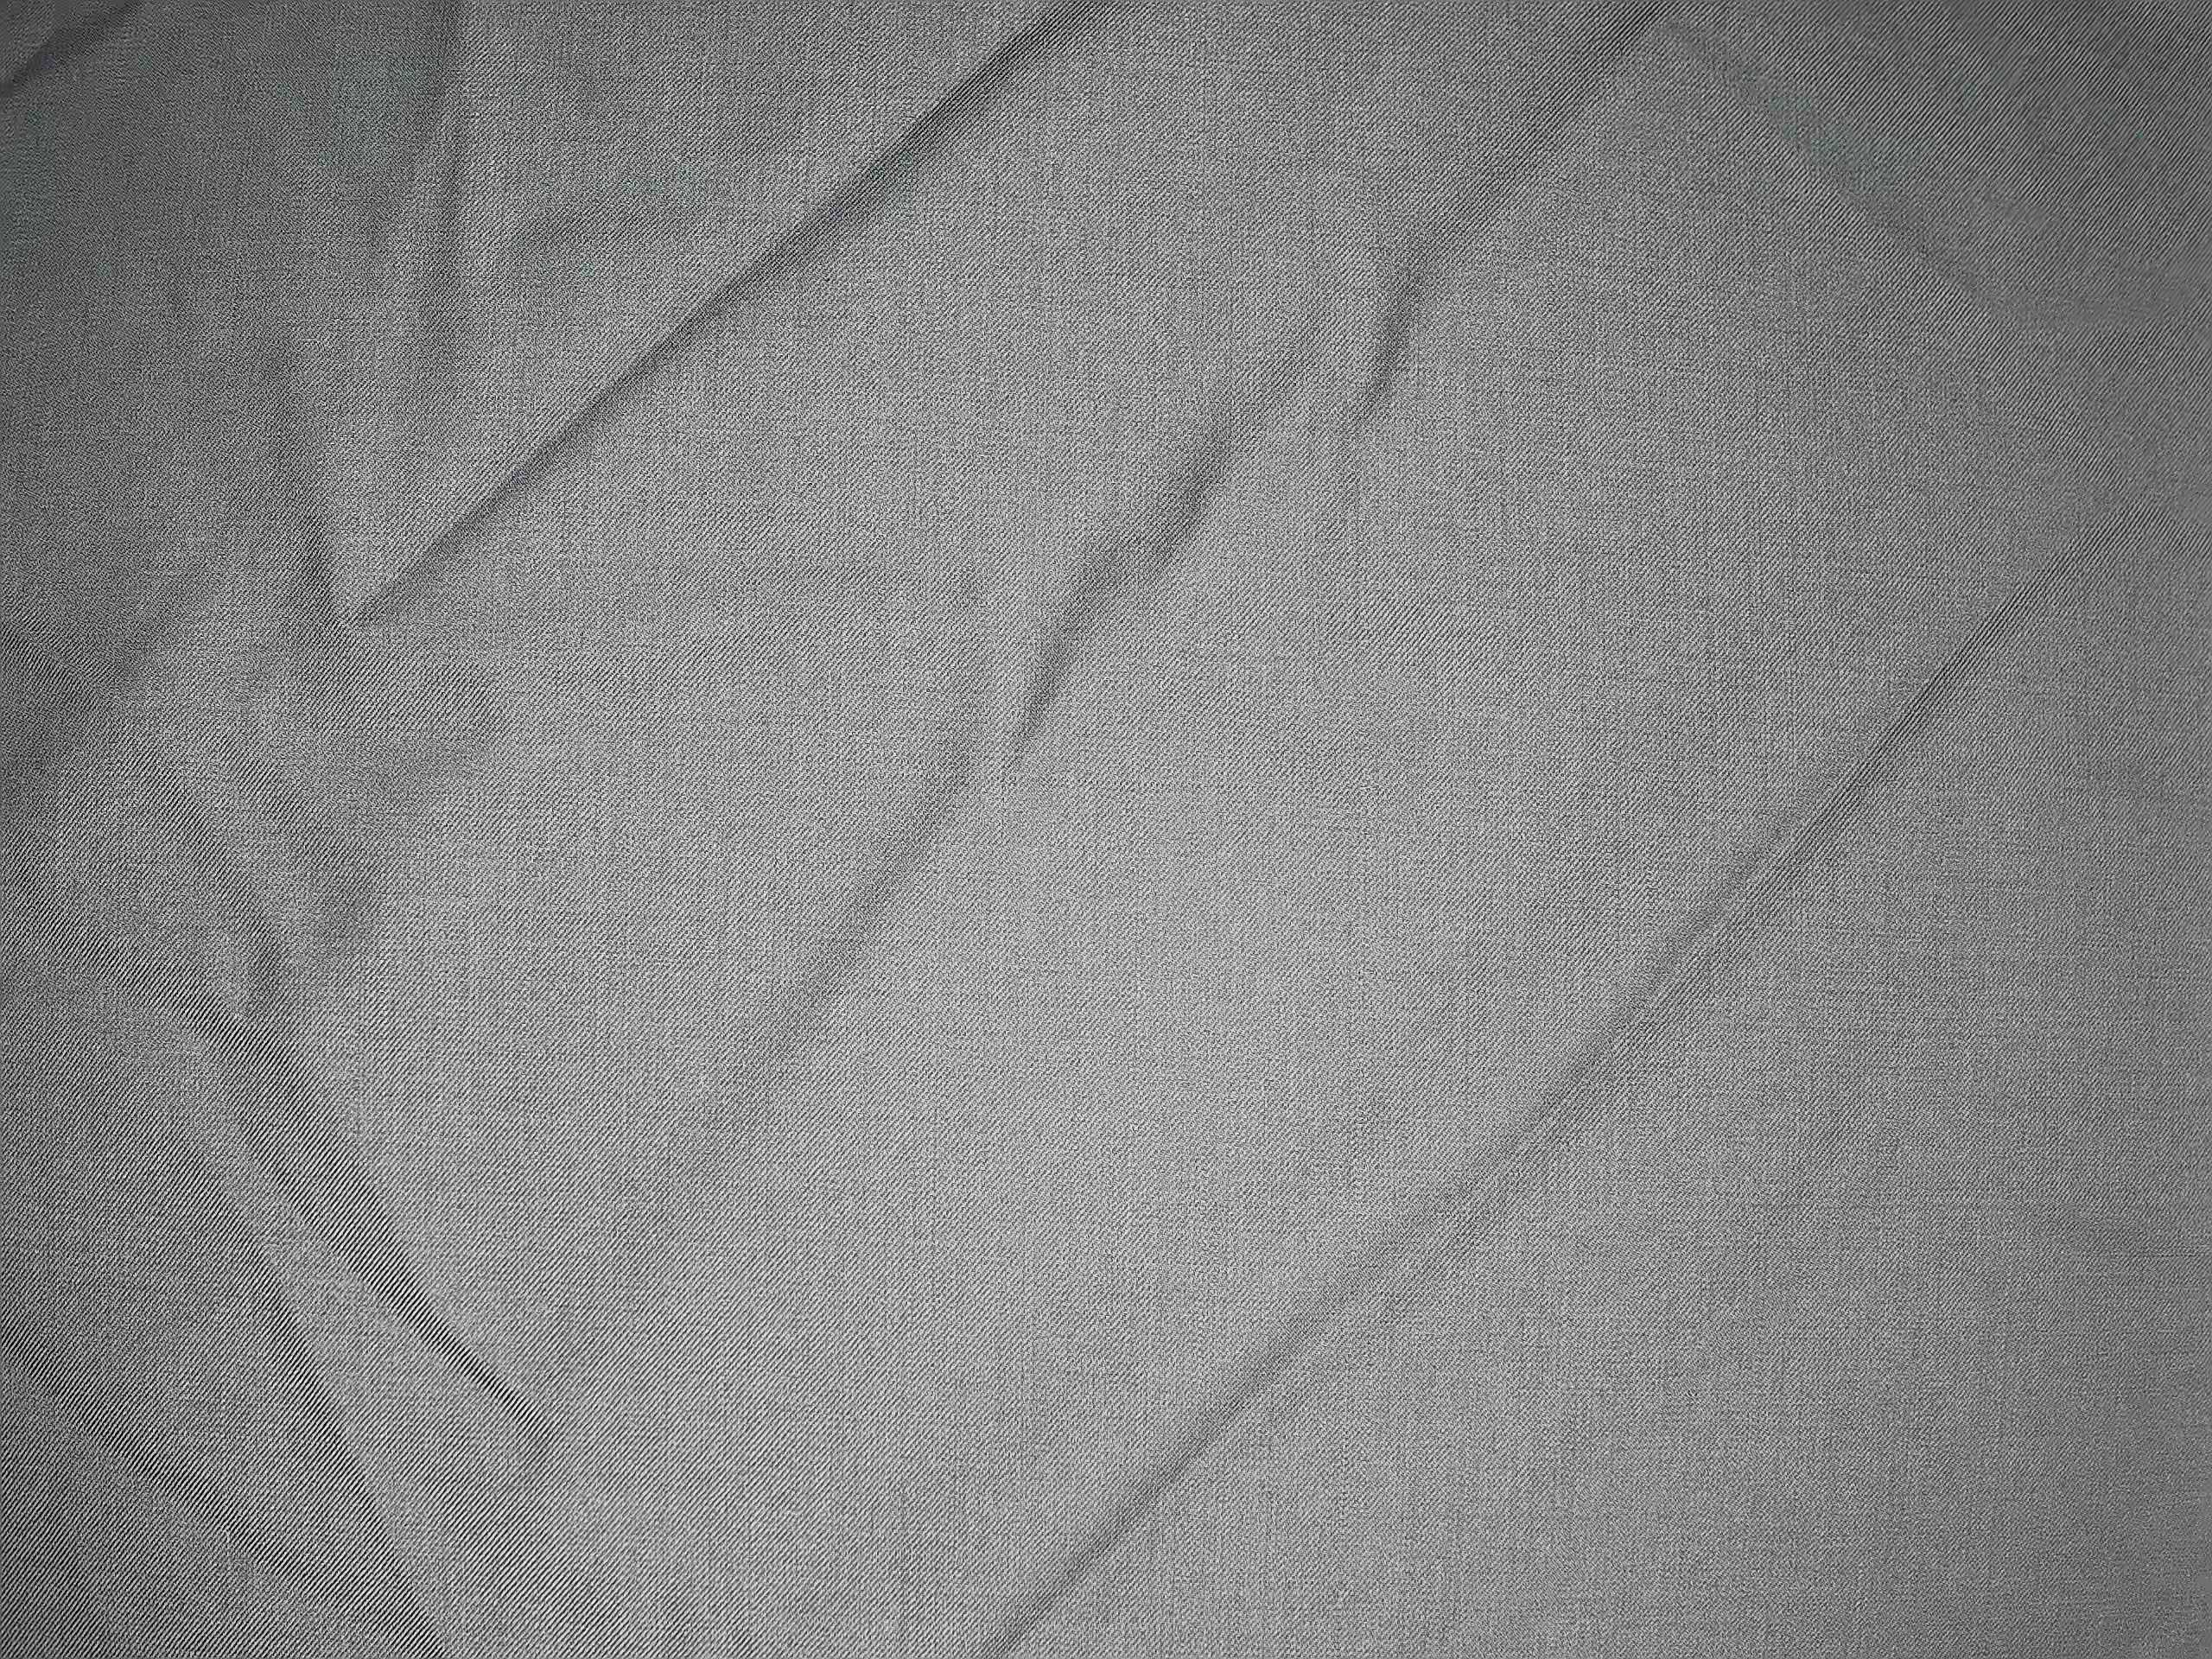jumps: (885, 758, 1294, 809)
